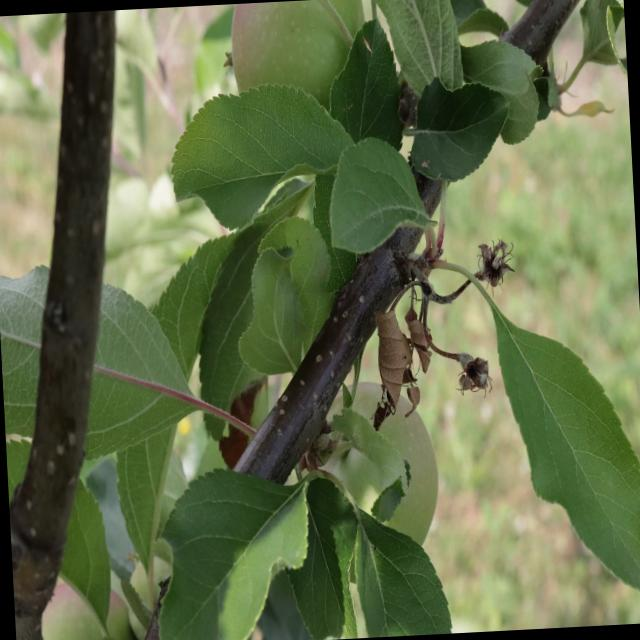-FireBlight-: (353, 287, 445, 434)
